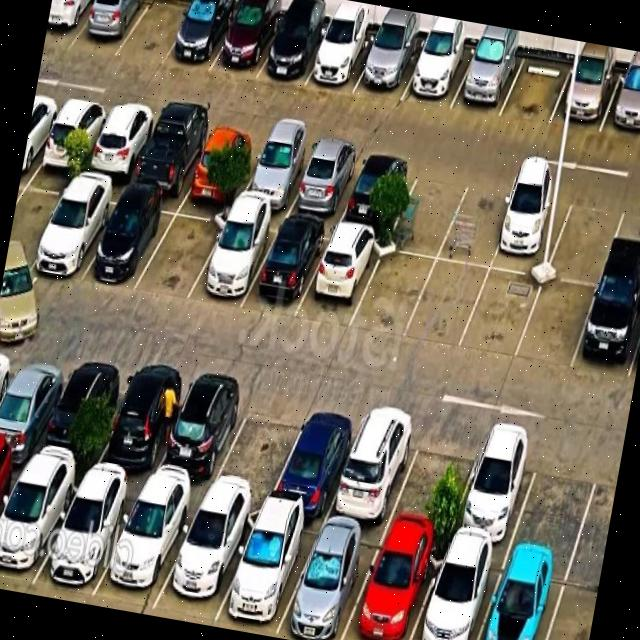Car: (102, 464, 198, 608), (173, 472, 250, 608), (287, 510, 363, 640), (354, 507, 427, 640), (0, 448, 71, 582), (228, 496, 300, 626), (50, 457, 119, 584), (200, 186, 272, 306), (578, 235, 640, 371), (40, 173, 110, 290), (336, 409, 406, 524), (456, 422, 524, 534), (272, 407, 346, 508), (106, 364, 176, 466), (478, 541, 548, 640), (423, 530, 486, 640), (168, 372, 236, 472), (48, 358, 119, 452), (254, 214, 320, 308), (136, 102, 201, 192), (93, 186, 152, 282), (0, 242, 44, 358), (91, 95, 149, 182), (359, 7, 413, 100), (43, 91, 102, 175), (218, 0, 275, 85), (247, 119, 300, 208), (564, 41, 618, 128), (410, 13, 462, 102), (164, 0, 229, 71), (498, 162, 545, 260), (0, 356, 54, 440), (314, 5, 363, 94), (298, 138, 352, 218), (190, 123, 243, 204), (316, 216, 364, 304), (351, 150, 410, 218), (464, 26, 514, 104), (22, 78, 58, 172), (273, 0, 317, 74), (44, 0, 99, 50), (87, 0, 137, 46), (614, 49, 640, 134), (0, 355, 8, 434)
Free: (390, 240, 502, 359), (338, 234, 446, 346), (520, 192, 626, 302), (453, 247, 548, 359), (508, 264, 600, 378), (377, 159, 471, 269), (510, 442, 606, 549), (389, 424, 482, 531), (132, 196, 218, 304), (426, 177, 512, 281), (214, 388, 303, 484), (495, 46, 570, 132), (112, 0, 183, 69), (9, 175, 55, 246)
